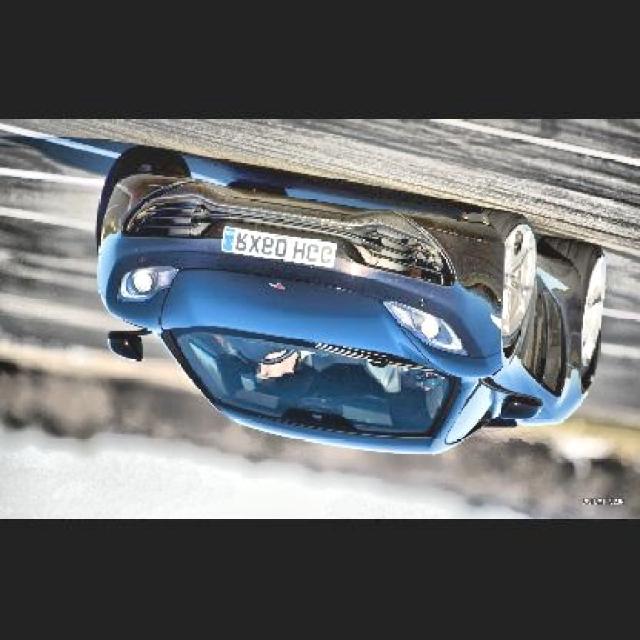black: (86, 186, 640, 480)
